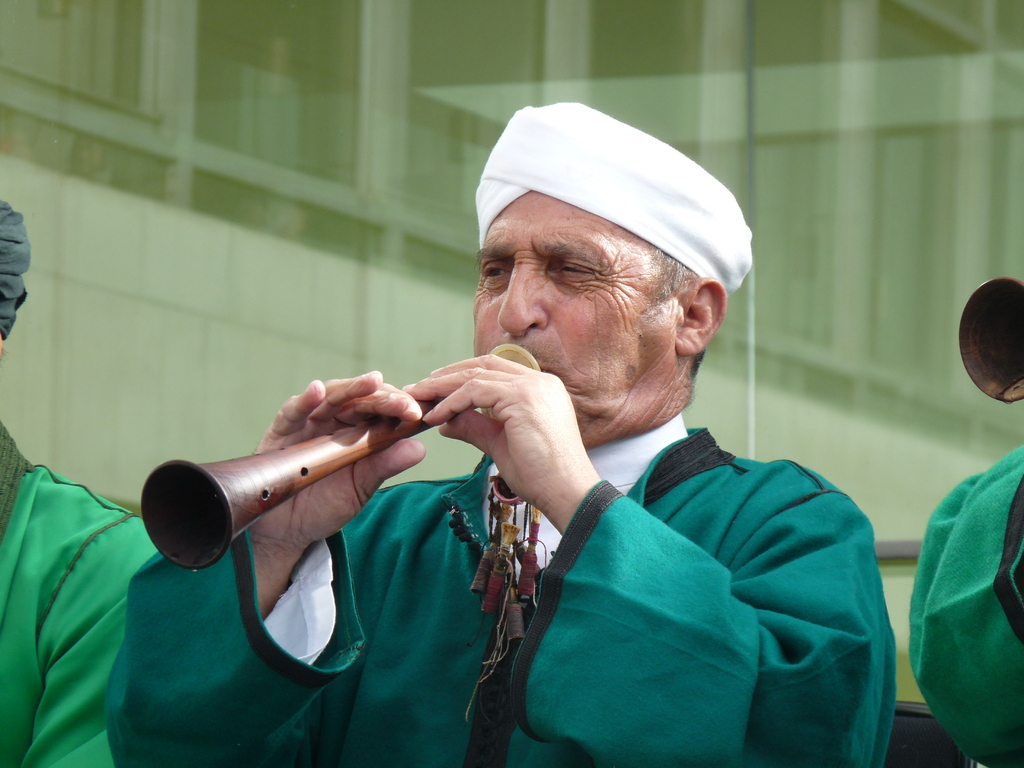Person: (105, 102, 896, 767), (0, 198, 158, 767), (908, 444, 1023, 767)
